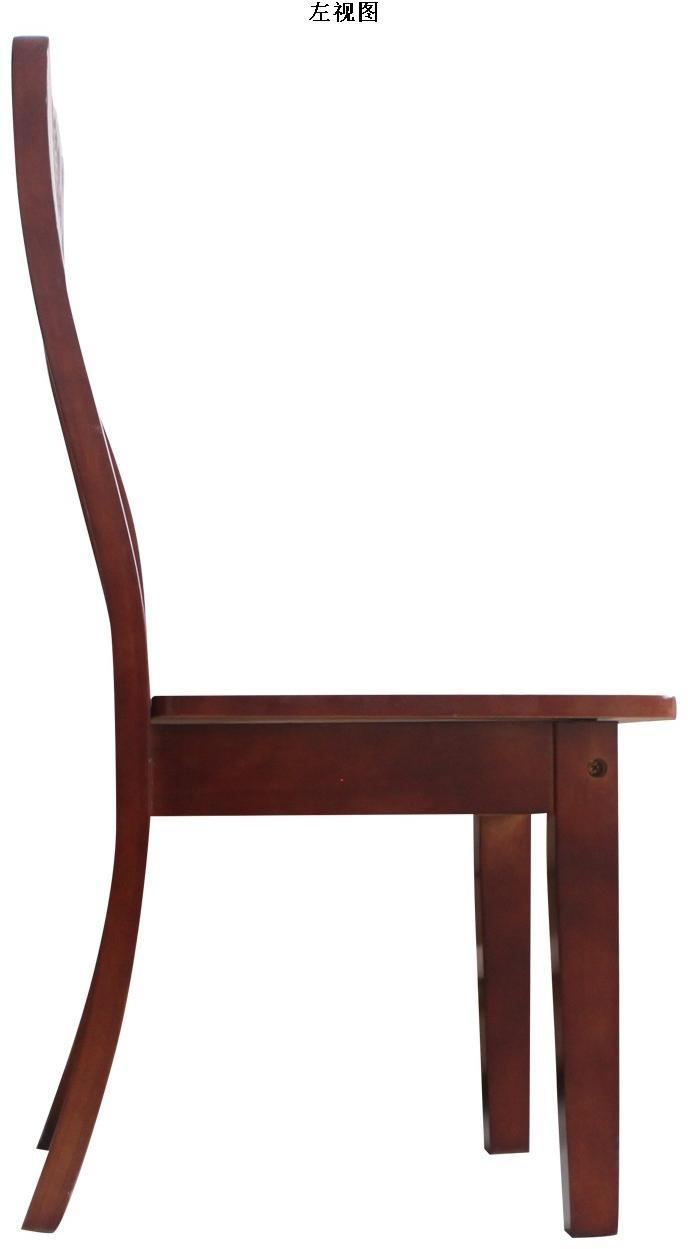obstacle: (12, 37, 674, 1236)
